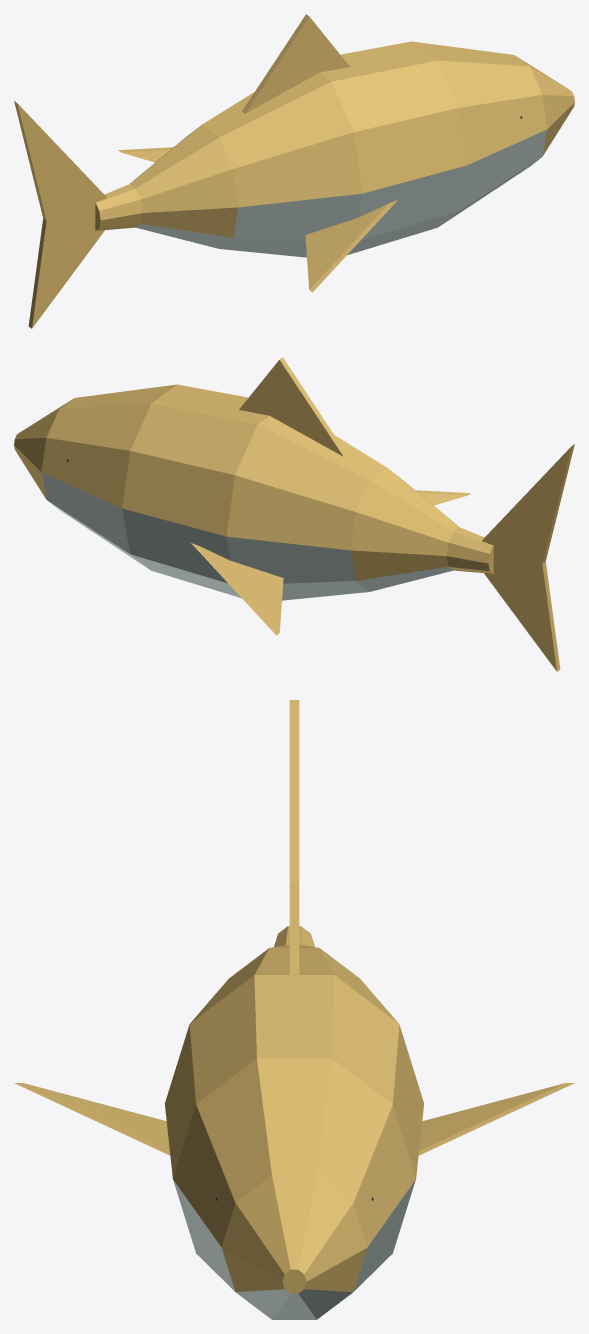
File: shoal_fish.glb
3 views of the same model, one above another, from view 1: azimuth 30°, elevation 25°; view 2: azimuth 150°, elevation 25°; view 3: azimuth 270°, elevation 25° (orthographic). The views are drawn at different scales.
Visible parts, largest first — view 1: shoal_fish_body, Tail_upper.001, Tail_lower.001, Dorsal.001, Pectoral.002, Pectoral.003; view 2: shoal_fish_body, Tail_upper.001, Tail_lower.001, Dorsal.001, Pectoral.003, Pectoral.002; view 3: shoal_fish_body, Pectoral.002, Pectoral.003, Tail_upper.001, Dorsal.001.
Part boxes in pixels (x1,y1,x2,y2): shoal_fish_body: (95,41,574,257); Tail_upper.001: (14,101,106,220); Tail_lower.001: (28,214,104,328); Dorsal.001: (242,14,349,113); Pectoral.002: (305,200,397,292); Pectoral.003: (118,147,173,162); shoal_fish_body: (14,384,493,600); Tail_upper.001: (482,444,574,563); Tail_lower.001: (484,557,560,671); Dorsal.001: (239,357,346,456); Pectoral.003: (191,543,283,635); Pectoral.002: (415,490,470,505); shoal_fish_body: (164,926,424,1319); Pectoral.002: (14,1083,170,1155); Pectoral.003: (418,1083,574,1155); Tail_upper.001: (289,700,299,883); Dorsal.001: (289,883,299,998).
Size of the model in its own units: 0.741 by 0.312 by 0.4498.
